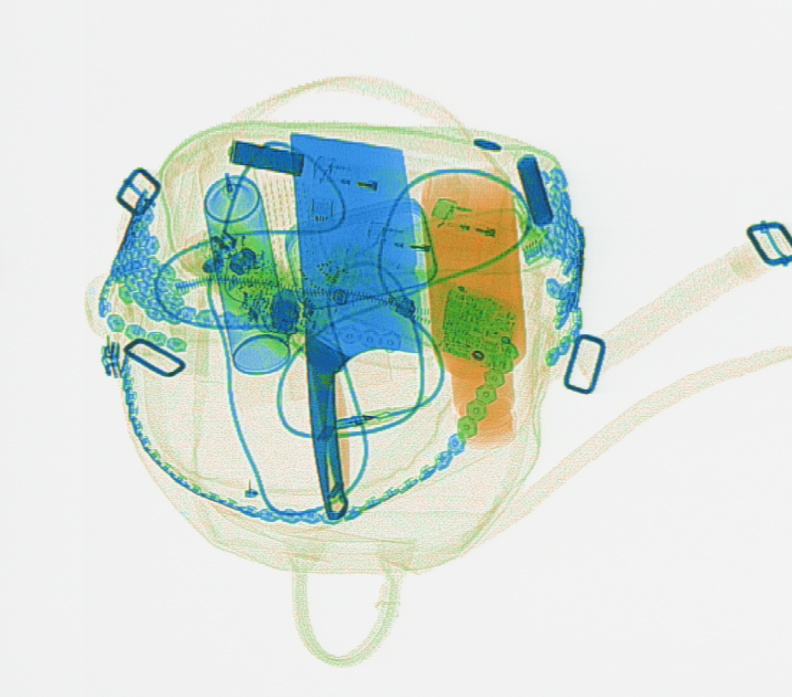knife: (285, 130, 421, 520)
lighter: (309, 152, 432, 197), (366, 217, 483, 260), (429, 196, 526, 247)
pressure: (199, 168, 291, 375)
